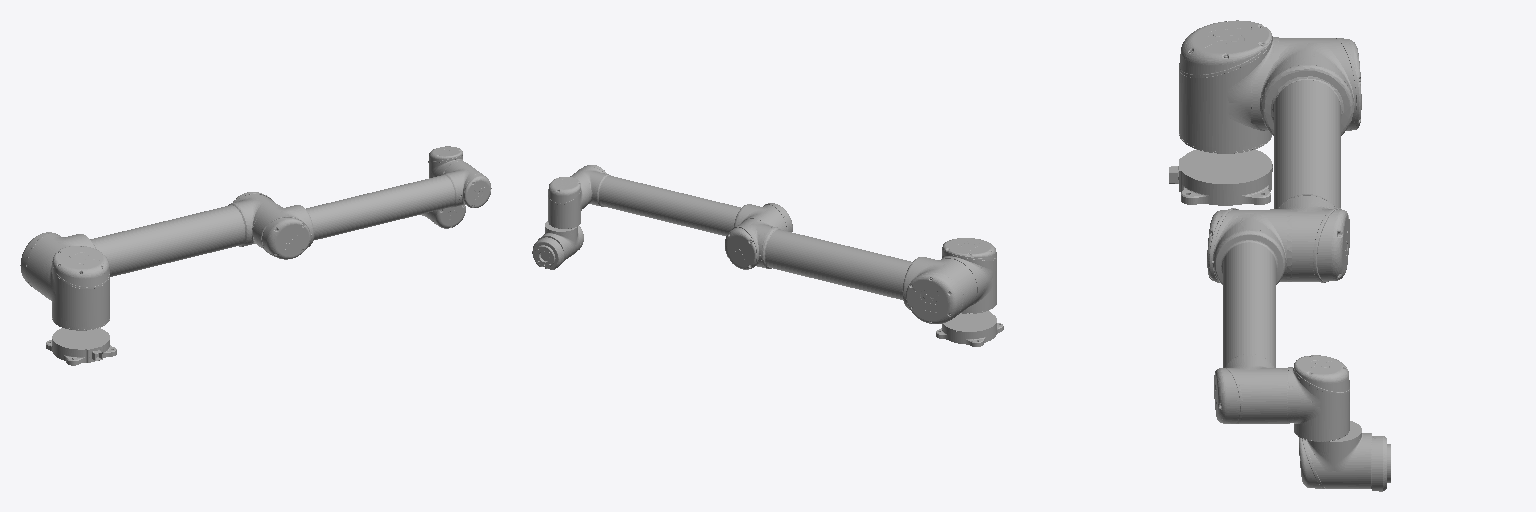
The robot description file, URDF, robot "UR10e":
<?xml version="1.0" encoding="utf-8"?>
<!-- =================================================================================== -->
<!-- |    This document was autogenerated by xacro from ur10e_robot.urdf.xacro         | -->
<!-- |    EDITING THIS FILE BY HAND IS NOT RECOMMENDED                                 | -->
<!-- =================================================================================== -->
<robot name="UR10e">
  <gazebo>
    <plugin filename="libgazebo_ros_control.so" name="ros_control">
      <!--robotNamespace>/</robotNamespace-->
      <!--robotSimType>gazebo_ros_control/DefaultRobotHWSim</robotSimType-->
    </plugin>
    <!--
    <plugin name="gazebo_ros_power_monitor_controller" filename="libgazebo_ros_power_monitor.so">
      <alwaysOn>true</alwaysOn>
      <updateRate>1.0</updateRate>
      <timeout>5</timeout>
      <powerStateTopic>power_state</powerStateTopic>
      <powerStateRate>10.0</powerStateRate>
      <fullChargeCapacity>87.78</fullChargeCapacity>     
      <dischargeRate>-474</dischargeRate>
      <chargeRate>525</chargeRate>
      <dischargeVoltage>15.52</dischargeVoltage>
      <chargeVoltage>16.41</chargeVoltage>
    </plugin>
-->
  </gazebo>
  <!--
  Author: [author]
  Contributers: [author], [author], [author]
-->
  <link name="base_link">
    <visual>
      <geometry>
        <mesh filename="./meshes/ur10e/visual/base.dae"/>
      </geometry>
      <material name="LightGrey">
        <color rgba="0.7 0.7 0.7 1.0"/>
      </material>
    </visual>
    <collision>
      <geometry>
        <mesh filename="./meshes/ur10e/collision/base.stl"/>
      </geometry>
    </collision>
    <inertial>
      <mass value="4.0"/>
      <origin rpy="0 0 0" xyz="0.0 0.0 0.0"/>
      <inertia ixx="0.0061063308908" ixy="0.0" ixz="0.0" iyy="0.0061063308908" iyz="0.0" izz="0.01125"/>
    </inertial>
  </link>
  <joint name="shoulder_pan_joint" type="revolute">
    <parent link="base_link"/>
    <child link="shoulder_link"/>
    <origin rpy="0.0 0.0 0.0" xyz="0.0 0.0 0.181"/>
    <axis xyz="0 0 1"/>
    <limit effort="330.0" lower="-6.28318530718" upper="6.28318530718" velocity="3.14"/>
    <dynamics damping="0.0" friction="0.0"/>
  </joint>
  <link name="shoulder_link">
    <visual>
      <geometry>
        <mesh filename="./meshes/ur10e/visual/shoulder.dae"/>
      </geometry>
      <material name="LightGrey">
        <color rgba="0.7 0.7 0.7 1.0"/>
      </material>
    </visual>
    <collision>
      <geometry>
        <mesh filename="./meshes/ur10e/collision/shoulder.stl"/>
      </geometry>
    </collision>
    <inertial>
      <mass value="7.778"/>
      <origin rpy="0 0 0" xyz="0.0 0.0 0.0"/>
      <inertia ixx="0.0314743125769" ixy="0.0" ixz="0.0" iyy="0.0314743125769" iyz="0.0" izz="0.021875625"/>
    </inertial>
  </link>
  <joint name="shoulder_lift_joint" type="revolute">
    <parent link="shoulder_link"/>
    <child link="upper_arm_link"/>
    <origin rpy="0.0 1.57079632679 0.0" xyz="0.0 0.176 0.0"/>
    <axis xyz="0 1 0"/>
    <limit effort="330.0" lower="-6.28318530718" upper="6.28318530718" velocity="3.14"/>
    <dynamics damping="0.0" friction="0.0"/>
  </joint>
  <link name="upper_arm_link">
    <visual>
      <geometry>
        <mesh filename="./meshes/ur10e/visual/upperarm.dae"/>
      </geometry>
      <material name="LightGrey">
        <color rgba="0.7 0.7 0.7 1.0"/>
      </material>
    </visual>
    <collision>
      <geometry>
        <mesh filename="./meshes/ur10e/collision/upperarm.stl"/>
      </geometry>
    </collision>
    <inertial>
      <mass value="12.93"/>
      <origin rpy="0 0 0" xyz="0.0 0.0 0.3065"/>
      <inertia ixx="0.42307374077" ixy="0.0" ixz="0.0" iyy="0.42307374077" iyz="0.0" izz="0.036365625"/>
    </inertial>
  </link>
  <joint name="elbow_joint" type="revolute">
    <parent link="upper_arm_link"/>
    <child link="forearm_link"/>
    <origin rpy="0.0 0.0 0.0" xyz="0.0 -0.137 0.613"/>
    <axis xyz="0 1 0"/>
    <limit effort="150.0" lower="-3.14159265359" upper="3.14159265359" velocity="3.14"/>
    <dynamics damping="0.0" friction="0.0"/>
  </joint>
  <link name="forearm_link">
    <visual>
      <geometry>
        <mesh filename="./meshes/ur10e/visual/forearm.dae"/>
      </geometry>
      <material name="LightGrey">
        <color rgba="0.7 0.7 0.7 1.0"/>
      </material>
    </visual>
    <collision>
      <geometry>
        <mesh filename="./meshes/ur10e/collision/forearm.stl"/>
      </geometry>
    </collision>
    <inertial>
      <mass value="3.87"/>
      <origin rpy="0 0 0" xyz="0.0 0.0 0.2855"/>
      <inertia ixx="0.110590365764" ixy="0.0" ixz="0.0" iyy="0.110590365764" iyz="0.0" izz="0.010884375"/>
    </inertial>
  </link>
  <joint name="wrist_1_joint" type="revolute">
    <parent link="forearm_link"/>
    <child link="wrist_1_link"/>
    <origin rpy="0.0 1.57079632679 0.0" xyz="0.0 0.0 0.571"/>
    <axis xyz="0 1 0"/>
    <limit effort="54.0" lower="-6.28318530718" upper="6.28318530718" velocity="6.28"/>
    <dynamics damping="0.0" friction="0.0"/>
  </joint>
  <link name="wrist_1_link">
    <visual>
      <geometry>
        <mesh filename="./meshes/ur10e/visual/wrist1.dae"/>
      </geometry>
      <material name="LightGrey">
        <color rgba="0.7 0.7 0.7 1.0"/>
      </material>
    </visual>
    <collision>
      <geometry>
        <mesh filename="./meshes/ur10e/collision/wrist1.stl"/>
      </geometry>
    </collision>
    <inertial>
      <mass value="1.96"/>
      <origin rpy="0 0 0" xyz="0.0 0.135 0.0"/>
      <inertia ixx="0.0051082479567" ixy="0.0" ixz="0.0" iyy="0.0051082479567" iyz="0.0" izz="0.0055125"/>
    </inertial>
  </link>
  <joint name="wrist_2_joint" type="revolute">
    <parent link="wrist_1_link"/>
    <child link="wrist_2_link"/>
    <origin rpy="0.0 0.0 0.0" xyz="0.0 0.135 0.0"/>
    <axis xyz="0 0 1"/>
    <limit effort="54.0" lower="-6.28318530718" upper="6.28318530718" velocity="6.28"/>
    <dynamics damping="0.0" friction="0.0"/>
  </joint>
  <link name="wrist_2_link">
    <visual>
      <geometry>
        <mesh filename="./meshes/ur10e/visual/wrist2.dae"/>
      </geometry>
      <material name="LightGrey">
        <color rgba="0.7 0.7 0.7 1.0"/>
      </material>
    </visual>
    <collision>
      <geometry>
        <mesh filename="./meshes/ur10e/collision/wrist2.stl"/>
      </geometry>
    </collision>
    <inertial>
      <mass value="1.96"/>
      <origin rpy="0 0 0" xyz="0.0 0.0 0.12"/>
      <inertia ixx="0.0051082479567" ixy="0.0" ixz="0.0" iyy="0.0051082479567" iyz="0.0" izz="0.0055125"/>
    </inertial>
  </link>
  <joint name="wrist_3_joint" type="revolute">
    <parent link="wrist_2_link"/>
    <child link="wrist_3_link"/>
    <origin rpy="0.0 0.0 0.0" xyz="0.0 0.0 0.12"/>
    <axis xyz="0 1 0"/>
    <limit effort="54.0" lower="-6.28318530718" upper="6.28318530718" velocity="6.28"/>
    <dynamics damping="0.0" friction="0.0"/>
  </joint>
  <link name="wrist_3_link">
    <visual>
      <geometry>
        <mesh filename="./meshes/ur10e/visual/wrist3.dae"/>
      </geometry>
      <material name="LightGrey">
        <color rgba="0.7 0.7 0.7 1.0"/>
      </material>
    </visual>
    <collision>
      <geometry>
        <mesh filename="./meshes/ur10e/collision/wrist3.stl"/>
      </geometry>
    </collision>
    <inertial>
      <mass value="0.202"/>
      <origin rpy="1.57079632679 0 0" xyz="0.0 0.092 0.0"/>
      <inertia ixx="0.000144345775595" ixy="0.0" ixz="0.0" iyy="0.000144345775595" iyz="0.0" izz="0.000204525"/>
    </inertial>
  </link>
  <joint name="ee_fixed_joint" type="fixed">
    <parent link="wrist_3_link"/>
    <child link="ee_link"/>
    <origin rpy="0.0 0.0 1.57079632679" xyz="0.0 0.117 0.0"/>
  </joint>
  <link name="ee_link">
    <collision>
      <geometry>
        <box size="0.01 0.01 0.01"/>
      </geometry>
      <origin rpy="0 0 0" xyz="-0.01 0 0"/>
    </collision>
  </link>
  <transmission name="shoulder_pan_trans">
    <type>transmission_interface/SimpleTransmission</type>
    <joint name="shoulder_pan_joint">
      <hardwareInterface>hardware_interface/PositionJointInterface</hardwareInterface>
    </joint>
    <actuator name="shoulder_pan_motor">
      <mechanicalReduction>1</mechanicalReduction>
    </actuator>
  </transmission>
  <transmission name="shoulder_lift_trans">
    <type>transmission_interface/SimpleTransmission</type>
    <joint name="shoulder_lift_joint">
      <hardwareInterface>hardware_interface/PositionJointInterface</hardwareInterface>
    </joint>
    <actuator name="shoulder_lift_motor">
      <mechanicalReduction>1</mechanicalReduction>
    </actuator>
  </transmission>
  <transmission name="elbow_trans">
    <type>transmission_interface/SimpleTransmission</type>
    <joint name="elbow_joint">
      <hardwareInterface>hardware_interface/PositionJointInterface</hardwareInterface>
    </joint>
    <actuator name="elbow_motor">
      <mechanicalReduction>1</mechanicalReduction>
    </actuator>
  </transmission>
  <transmission name="wrist_1_trans">
    <type>transmission_interface/SimpleTransmission</type>
    <joint name="wrist_1_joint">
      <hardwareInterface>hardware_interface/PositionJointInterface</hardwareInterface>
    </joint>
    <actuator name="wrist_1_motor">
      <mechanicalReduction>1</mechanicalReduction>
    </actuator>
  </transmission>
  <transmission name="wrist_2_trans">
    <type>transmission_interface/SimpleTransmission</type>
    <joint name="wrist_2_joint">
      <hardwareInterface>hardware_interface/PositionJointInterface</hardwareInterface>
    </joint>
    <actuator name="wrist_2_motor">
      <mechanicalReduction>1</mechanicalReduction>
    </actuator>
  </transmission>
  <transmission name="wrist_3_trans">
    <type>transmission_interface/SimpleTransmission</type>
    <joint name="wrist_3_joint">
      <hardwareInterface>hardware_interface/PositionJointInterface</hardwareInterface>
    </joint>
    <actuator name="wrist_3_motor">
      <mechanicalReduction>1</mechanicalReduction>
    </actuator>
  </transmission>
  <gazebo reference="shoulder_link">
    <selfCollide>true</selfCollide>
  </gazebo>
  <gazebo reference="upper_arm_link">
    <selfCollide>true</selfCollide>
  </gazebo>
  <gazebo reference="forearm_link">
    <selfCollide>true</selfCollide>
  </gazebo>
  <gazebo reference="wrist_1_link">
    <selfCollide>true</selfCollide>
  </gazebo>
  <gazebo reference="wrist_3_link">
    <selfCollide>true</selfCollide>
  </gazebo>
  <gazebo reference="wrist_2_link">
    <selfCollide>true</selfCollide>
  </gazebo>
  <gazebo reference="ee_link">
    <selfCollide>true</selfCollide>
  </gazebo>
  <!-- ROS base_link to UR 'Base' Coordinates transform -->
  <link name="base"/>
  <joint name="base_link-base_fixed_joint" type="fixed">
    <!-- NOTE: this rotation is only needed as long as base_link itself is
                 not corrected wrt the real robot (ie: rotated over 180
                 degrees)
      -->
    <origin rpy="0 0 -3.14159265359" xyz="0 0 0"/>
    <parent link="base_link"/>
    <child link="base"/>
  </joint>
  <!-- Frame coincident with all-zeros TCP on UR controller -->
  <link name="tool0"/>
  <joint name="wrist_3_link-tool0_fixed_joint" type="fixed">
    <origin rpy="-1.57079632679 0 0" xyz="0 0.117 0"/>
    <parent link="wrist_3_link"/>
    <child link="tool0"/>
  </joint>
  <link name="world"/>
  <joint name="world_joint" type="fixed">
    <parent link="world"/>
    <child link="base_link"/>
    <origin rpy="0.0 0.0 0.0" xyz="0.0 0.0 0.0"/>
  </joint>
</robot>

--- What the picture shows (computed from the rendered views, not written in the file) ---
Views: 3 orthographic renders of the robot side by side, from view 1: azimuth 30°, elevation 25°; view 2: azimuth 150°, elevation 25°; view 3: azimuth 270°, elevation 25°.
Robot: UR10e — 11 links, 10 joints (6 revolute, 4 fixed); root link world; default pose: every joint at zero.
Links seen in each view (by area): view 1: forearm_link, upper_arm_link, shoulder_link, base_link, wrist_1_link, wrist_2_link; view 2: upper_arm_link, forearm_link, shoulder_link, wrist_1_link, base_link, wrist_2_link, wrist_3_link; view 3: upper_arm_link, forearm_link, shoulder_link, base_link, wrist_1_link, wrist_2_link, wrist_3_link.
Boxes of the visible links, <box> form: forearm_link: <box>253,161,491,259</box>; upper_arm_link: <box>20,192,274,299</box>; shoulder_link: <box>40,246,109,330</box>; base_link: <box>46,328,116,365</box>; wrist_1_link: <box>428,146,462,177</box>; wrist_2_link: <box>423,205,465,228</box>; upper_arm_link: <box>725,218,976,323</box>; forearm_link: <box>570,165,792,235</box>; shoulder_link: <box>941,238,996,313</box>; wrist_1_link: <box>548,177,588,228</box>; base_link: <box>936,311,1003,346</box>; wrist_2_link: <box>538,221,583,261</box>; wrist_3_link: <box>532,237,563,269</box>; upper_arm_link: <box>1251,38,1361,282</box>; forearm_link: <box>1207,208,1291,423</box>; shoulder_link: <box>1179,20,1278,153</box>; base_link: <box>1169,149,1272,205</box>; wrist_1_link: <box>1288,355,1349,441</box>; wrist_2_link: <box>1299,421,1371,488</box>; wrist_3_link: <box>1372,436,1390,491</box>.
Size in the robot's own frame: 1.31 by 0.3581 by 0.2692 metres.
7 mesh visuals loaded from 7 distinct referenced files (7 Collada DAE).